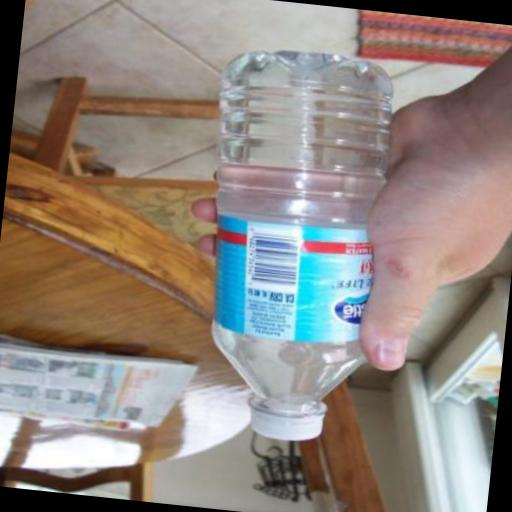Coca: (175, 36, 424, 459)
